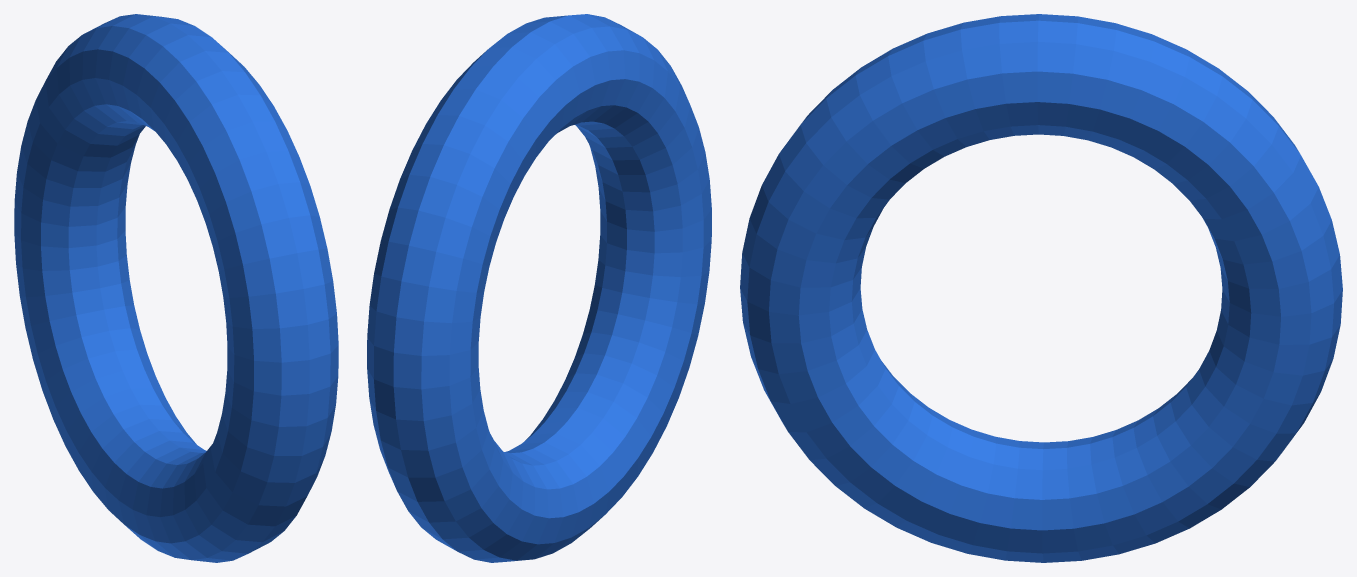
Rendered from ring.glb.
3 renders of one model, left to right at view 1: azimuth 30°, elevation 25°; view 2: azimuth 150°, elevation 25°; view 3: azimuth 270°, elevation 25°, orthographic. The views are drawn at different scales.
Parts seen in each view (by area): view 1: Torus; view 2: Torus; view 3: Torus.
Boxes of the visible parts, bbox=[...] form: Torus: bbox=[14, 14, 338, 562]; Torus: bbox=[367, 14, 711, 562]; Torus: bbox=[740, 14, 1342, 562].
Bounding box in the file's own units: 0.5968 × 2.5 × 2.5.
